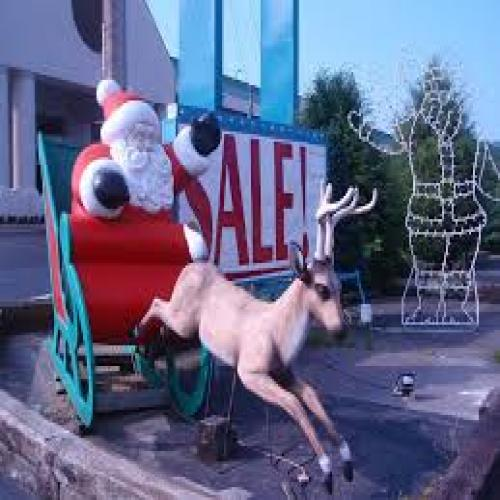Santa: (66, 77, 224, 346)
